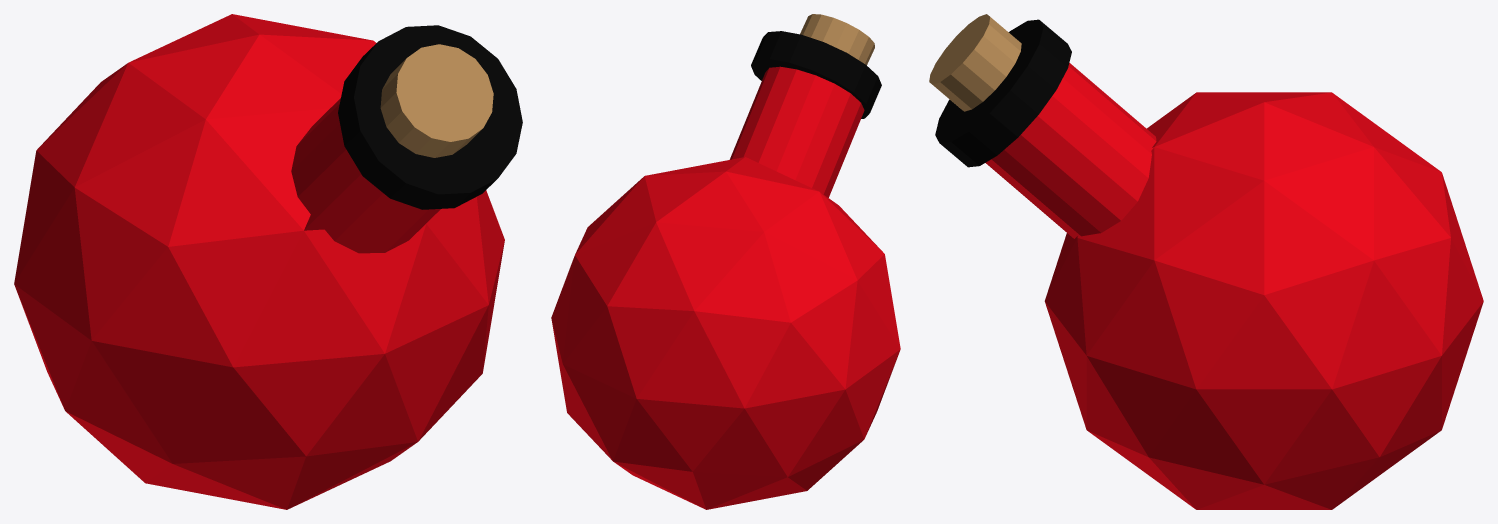
File: potion.fbx
3 renders of one model, left to right at view 1: azimuth 30°, elevation 25°; view 2: azimuth 150°, elevation 25°; view 3: azimuth 270°, elevation 25°, orthographic. The views are drawn at different scales.
Visible parts, largest first — view 1: PotionMesh; view 2: PotionMesh; view 3: PotionMesh.
Boxes of the visible parts, box(x1,y1,x2,y2) form: PotionMesh: box(14, 14, 522, 509); PotionMesh: box(551, 14, 900, 509); PotionMesh: box(929, 14, 1483, 509).
Size of the model in its own units: 190 by 244 by 253.
